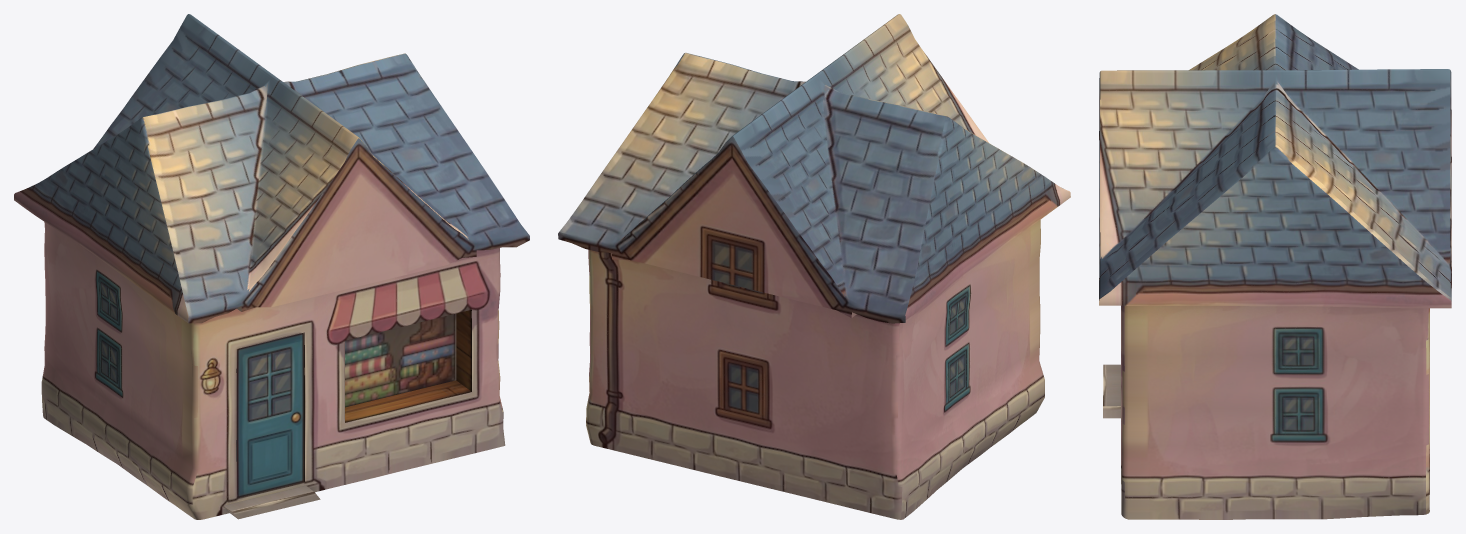
File: havre_mercerie.glb
3 views of the same model, side by side, from view 1: azimuth 30°, elevation 25°; view 2: azimuth 150°, elevation 25°; view 3: azimuth 270°, elevation 25° (orthographic). The views are drawn at different scales.
Visible parts, largest first — view 1: maison; view 2: maison; view 3: maison.
Part boxes in pixels (x1,y1,x2,y2): maison: (14,14,529,519); maison: (558,14,1070,519); maison: (1099,14,1451,519).
Size of the model in its own units: 5.75 by 5.62 by 4.86.
Materials: 1 (1 with a texture image).
